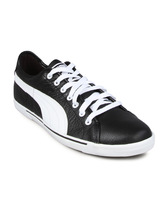shoes: (14, 48, 157, 158)
